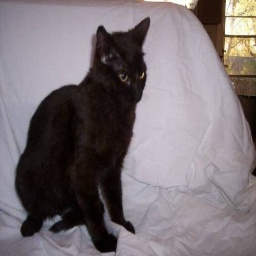cat: (11, 17, 150, 252)
